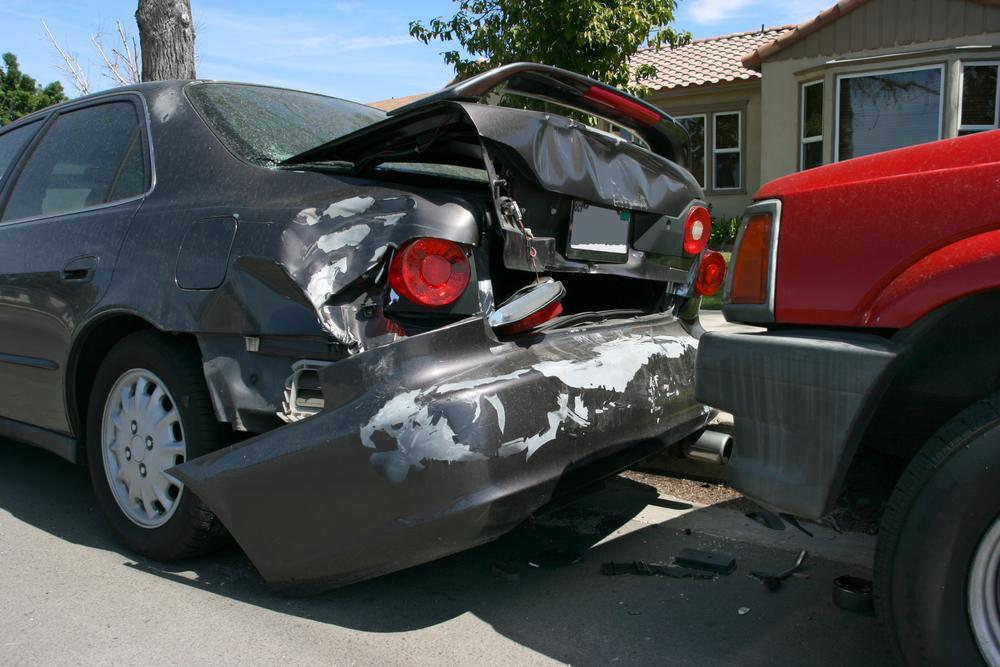dent: (195, 195, 414, 339), (528, 115, 692, 214)
scratch: (348, 330, 703, 482)
